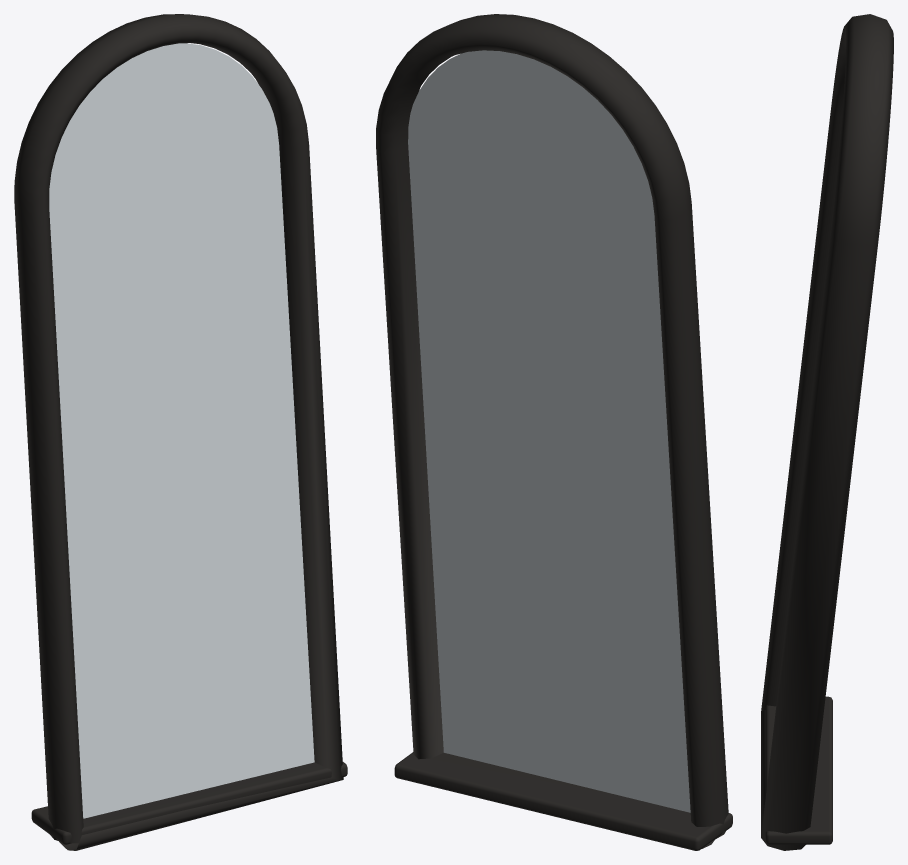
File: arch_mirror.glb
3 views of the same model, side by side, from view 1: azimuth 30°, elevation 25°; view 2: azimuth 150°, elevation 25°; view 3: azimuth 270°, elevation 25° (orthographic). The views are drawn at different scales.
Visible parts, largest first — view 1: model; view 2: model; view 3: model.
Part boxes in pixels (box(x1,y1,x2,y2)): model: box(14, 14, 347, 850); model: box(376, 14, 732, 850); model: box(761, 14, 893, 850).
Bounding box in the file's own units: 0.68 × 1.75 × 0.2772.
2 materials, 2 textured.
